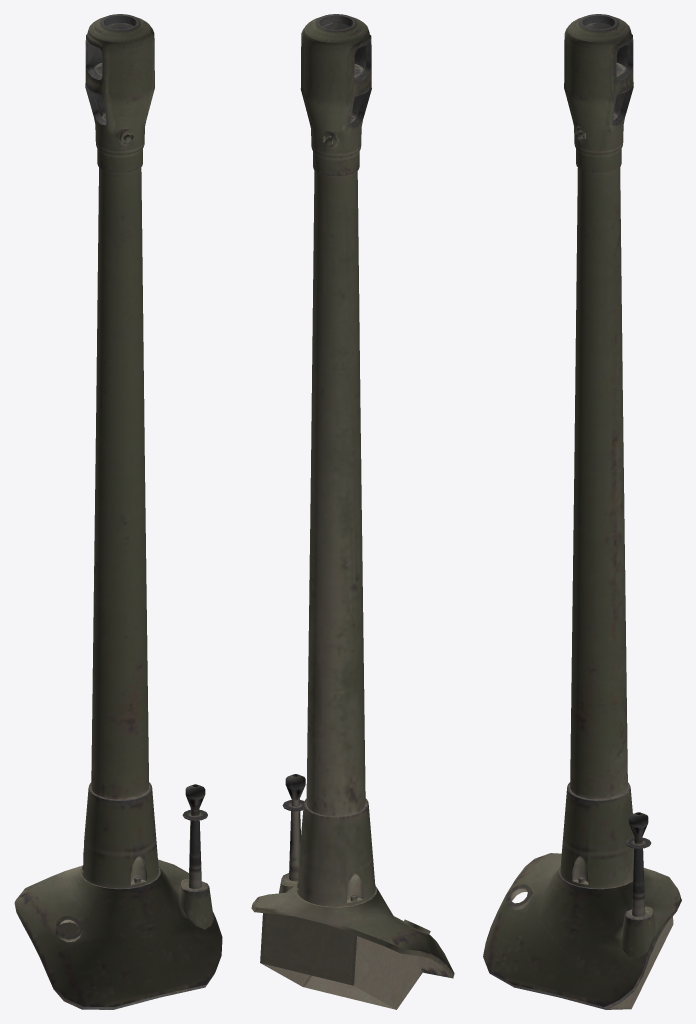
Rendered from Gun_01.glb.
The picture shows the model from 3 angles, left to right: view 1: azimuth 30°, elevation 25°; view 2: azimuth 150°, elevation 25°; view 3: azimuth 330°, elevation 25°; orthographic projection. The views are drawn at different scales.
Parts seen in each view (by area): view 1: set_0_group_0; view 2: set_0_group_0; view 3: set_0_group_0.
Part boxes in pixels (x1=…): set_0_group_0: x1=14, y1=14, x2=222, y2=1009; set_0_group_0: x1=251, y1=14, x2=454, y2=1009; set_0_group_0: x1=483, y1=14, x2=681, y2=1009.
Bounding box in the file's own units: 0.7626 × 4.32 × 0.5619.
Materials: 1 (1 with a texture image).
